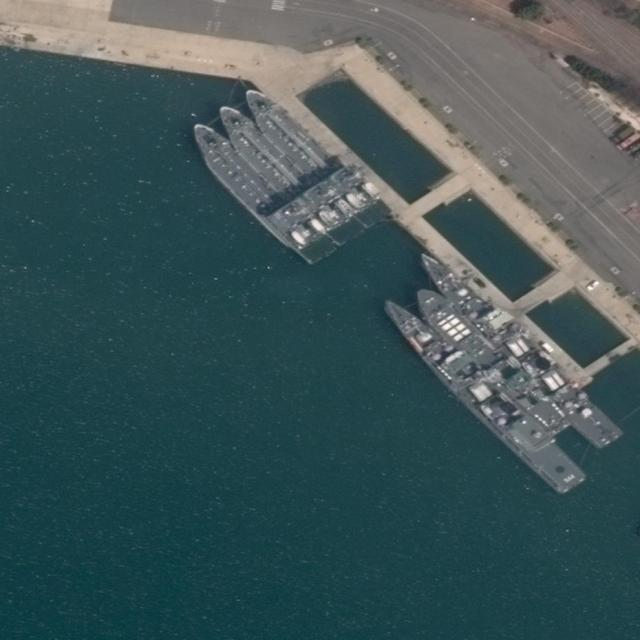Frigate: (373, 295, 588, 498), (411, 249, 623, 449)
Landing: (178, 117, 339, 273), (235, 79, 392, 235), (207, 96, 364, 248)
Other Warship: (405, 282, 575, 440)
